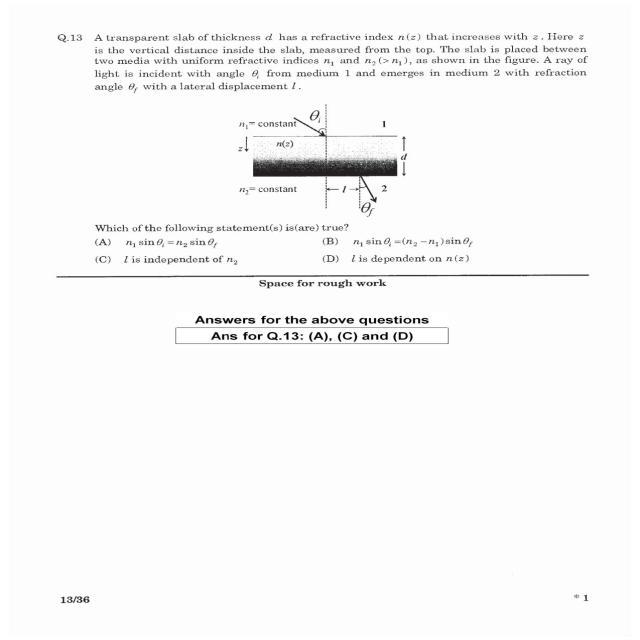Answer_Block: (32, 234, 606, 268)
Description: (32, 306, 606, 388)
Question_Answer_Block: (32, 16, 606, 271)
Question_Block: (32, 15, 606, 236)
Question_Paper_Area: (32, 16, 606, 600)
